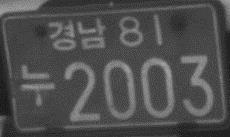0: (139, 56, 176, 118), (102, 60, 138, 121)
1: (149, 13, 168, 47)
2: (64, 61, 101, 123)
3: (178, 54, 216, 116)
8: (118, 14, 145, 48)
경남_O: (46, 18, 108, 52)
누: (18, 61, 55, 106)
